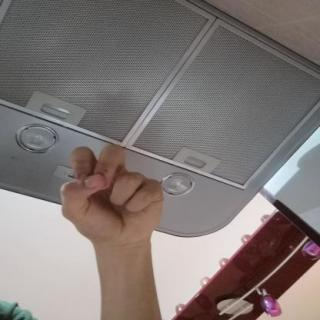QAAF: (48, 139, 175, 255)
